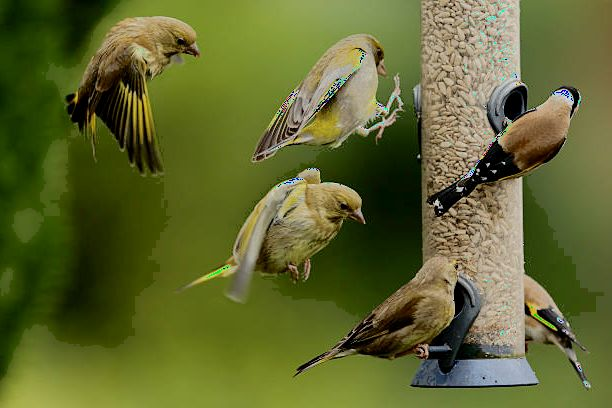Bird: (181, 166, 368, 306), (64, 11, 201, 179), (425, 83, 584, 220), (293, 252, 461, 380), (246, 29, 407, 162), (522, 271, 592, 393)
